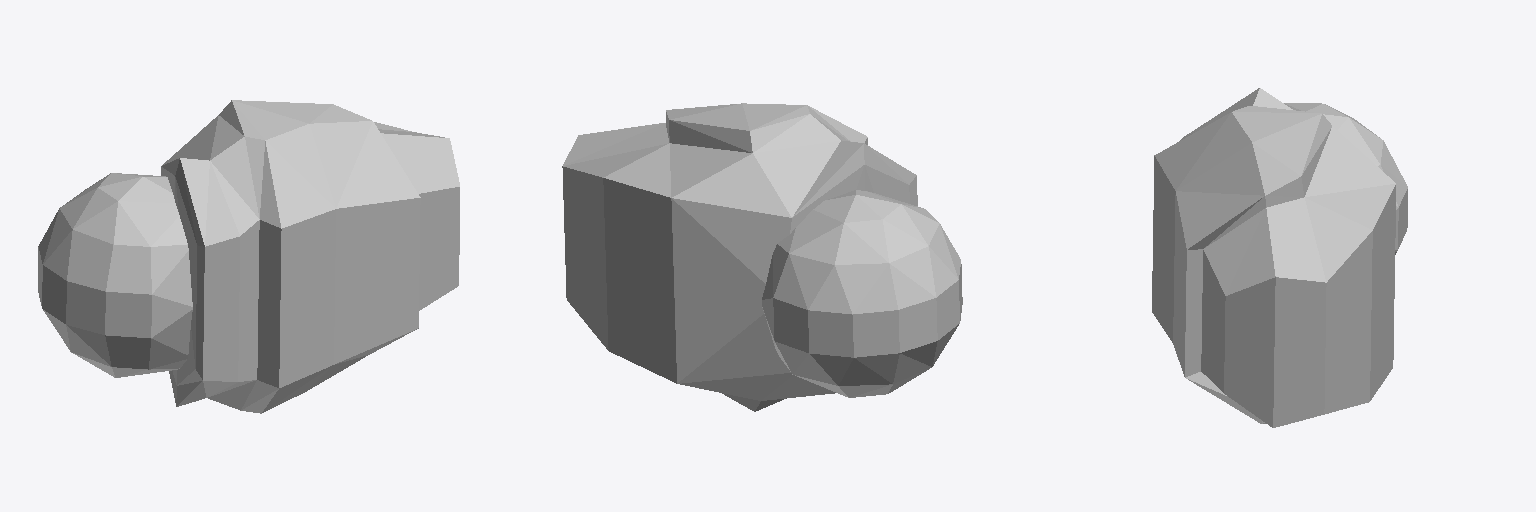
File: PhalaxEnd.obj
3 views of the same model, side by side, from view 1: azimuth 30°, elevation 25°; view 2: azimuth 150°, elevation 25°; view 3: azimuth 270°, elevation 25° (orthographic).
Visible parts, largest first — view 1: default; view 2: default; view 3: default.
Part boxes in pixels (x1,y1,x2,y2): default: (38, 100, 459, 413); default: (562, 103, 962, 411); default: (1152, 88, 1407, 427).
Bounding box in the file's own units: 0.0225 × 0.0158 × 0.013.